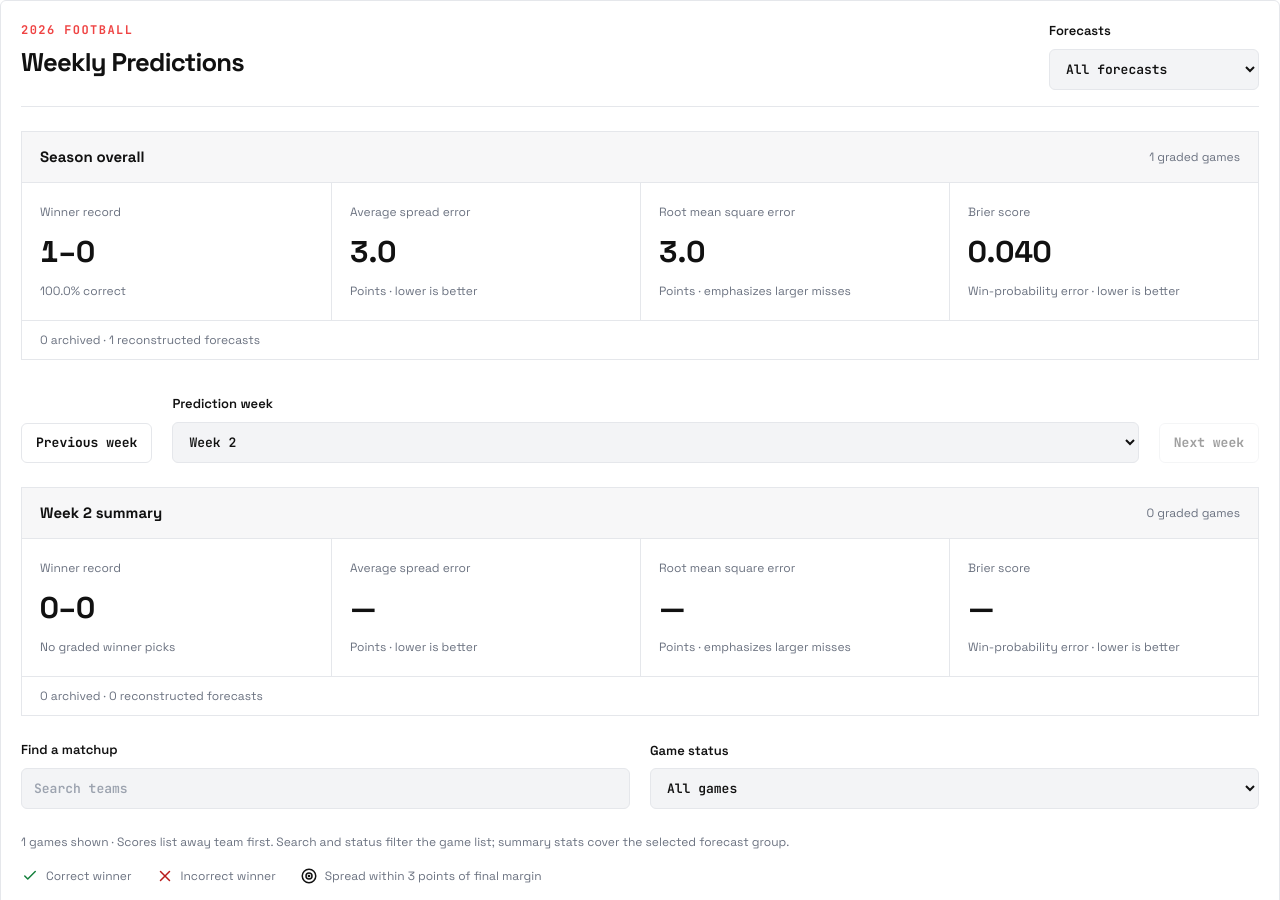
Test case: opens upcoming week and keeps season stats when changing weeks
Check: the dropdown labelled "Prediction week" shows "Week 2", box [172,422,1139,462]
Check: the text "1–0" is shown, box [40,232,95,271]
Click the button "Previous week" at coordinates (87, 443), box [21,423,152,462]
(page scrolled)
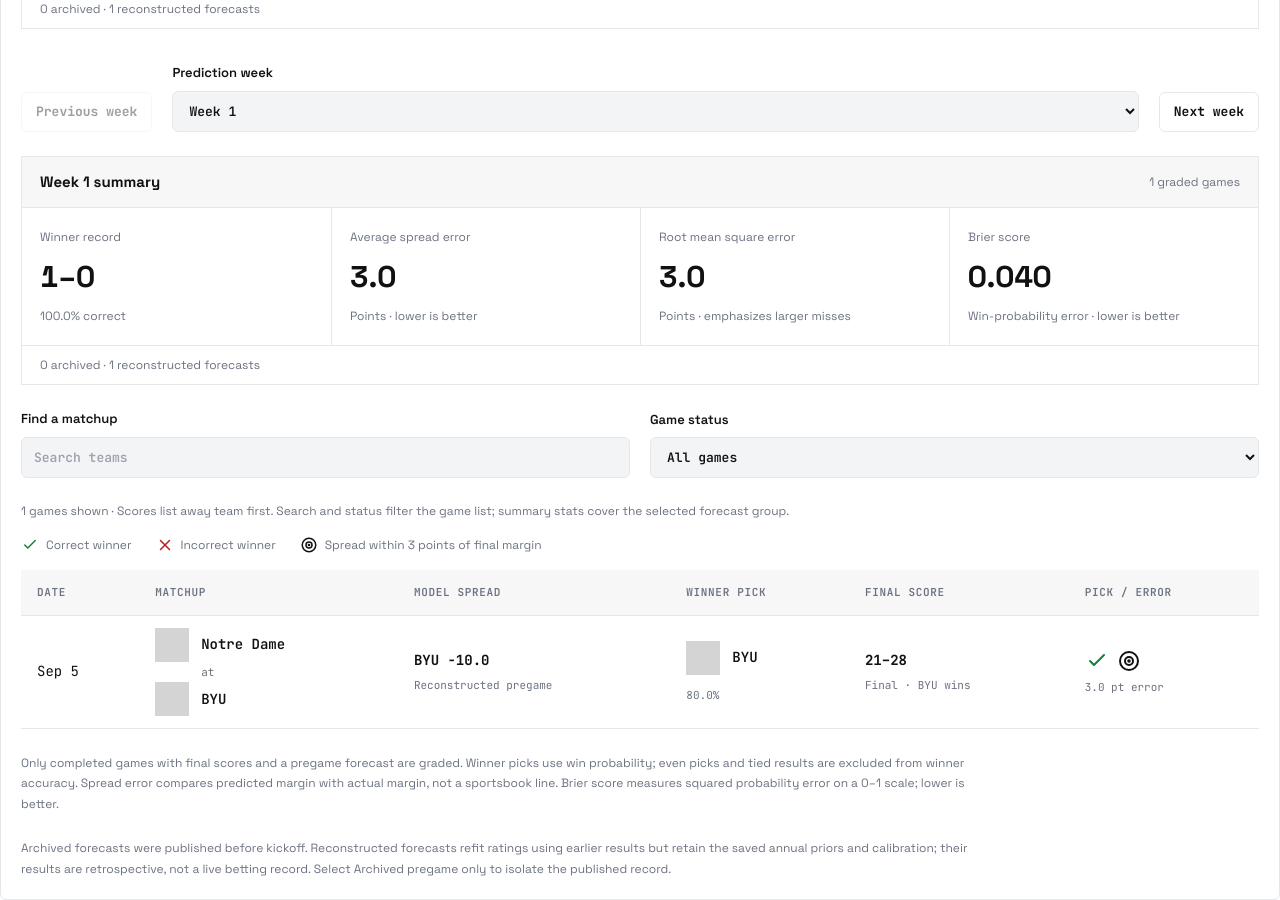
Check: the dropdown labelled "Prediction week" shows "Week 1", box [172,90,1139,132]
Check: the text "21–28" is shown, box [865,651,907,669]
Check: the picture named "Correct winner pick" in the row of "Sep 5" is shown, box [1085,648,1109,672]
